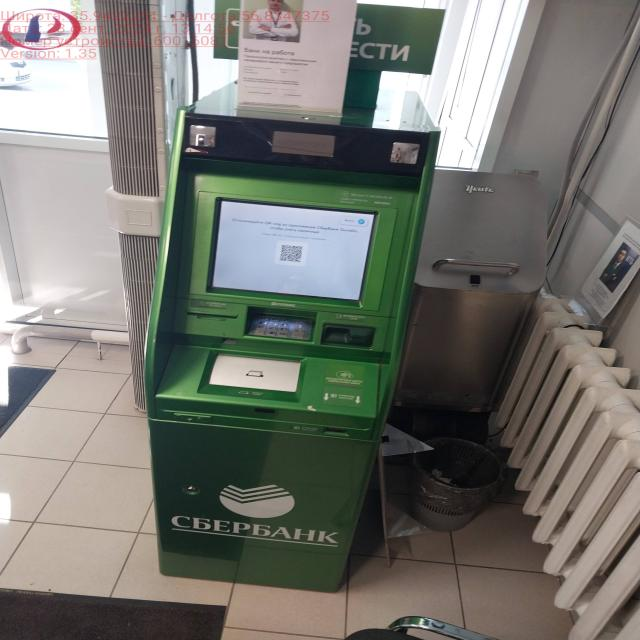bank: (138, 76, 441, 594)
